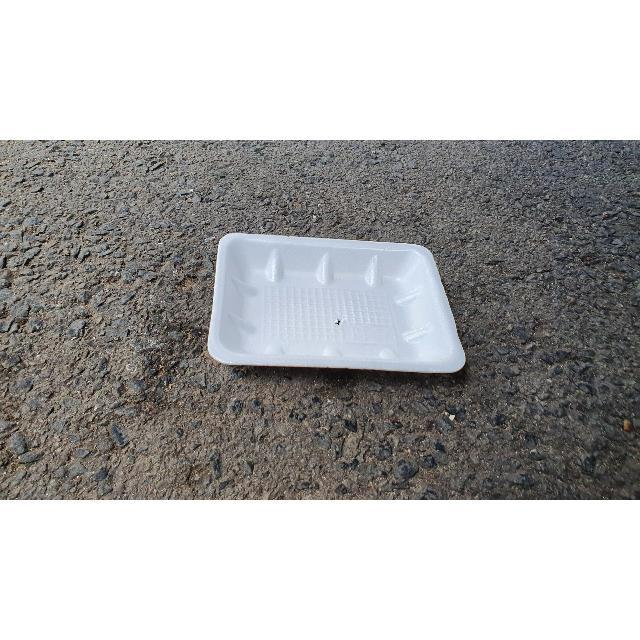Recipiente plastico: (208, 234, 465, 372)
